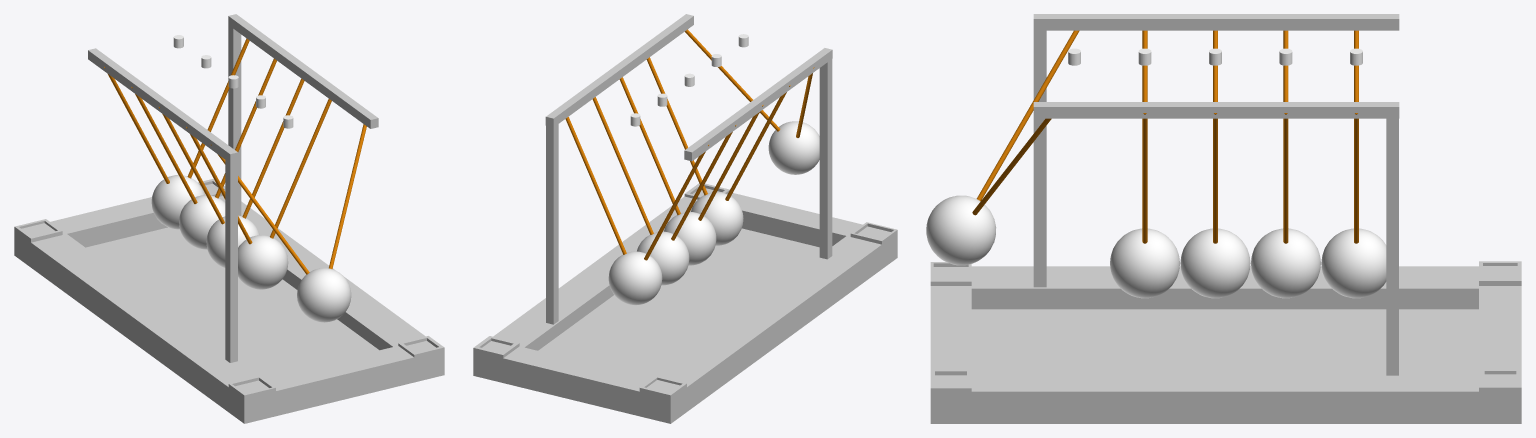
Rendered from newtons_cradle_animated_with_physics.glb.
The picture shows the model from 3 angles, left to right: view 1: azimuth 30°, elevation 25°; view 2: azimuth 150°, elevation 25°; view 3: azimuth 270°, elevation 25°; orthographic projection. The views are drawn at different scales.
Visible parts, largest first — view 1: Plane_24, Cube.003_23, Cube_20, Cube.001_21, Sphere_6, Sphere.001_9, Cube.002_22, Sphere.004_18, Sphere.003_15, Cylinder.001_5, Cylinder.005_11, Cylinder.003_8 (+3 smaller); view 2: Plane_24, Cube.003_23, Cube.002_22, Cube_20, Cube.001_21, Sphere.004_18, Sphere_6, Sphere.003_15, Sphere.002_12, Sphere.001_9, Cylinder.007_14, Cylinder.009_17 (+3 smaller); view 3: Plane_24, Cube.001_21, Cube_20, Sphere.001_9, Sphere.003_15, Sphere_6, Sphere.002_12, Sphere.004_18, Cube.002_22, Cube.003_23, Cylinder.001_5, Cylinder.003_8 (+3 smaller).
Boxes of the visible parts, <box> form: Plane_24: <box>14,178,444,423</box>; Cube.003_23: <box>225,160,237,362</box>; Cube_20: <box>228,14,378,128</box>; Cube.001_21: <box>88,48,237,163</box>; Sphere_6: <box>297,268,351,322</box>; Sphere.001_9: <box>238,235,288,289</box>; Cube.002_22: <box>228,25,241,215</box>; Sphere.004_18: <box>151,175,204,229</box>; Sphere.003_15: <box>179,195,225,249</box>; Cylinder.001_5: <box>211,124,366,274</box>; Cylinder.005_11: <box>159,78,304,224</box>; Cylinder.003_8: <box>186,99,331,244</box>; Plane_24: <box>473,183,897,423</box>; Cube.003_23: <box>819,59,832,259</box>; Cube.002_22: <box>546,124,558,324</box>; Cube_20: <box>545,14,693,127</box>; Cube.001_21: <box>684,48,832,161</box>; Sphere.004_18: <box>608,251,662,305</box>; Sphere_6: <box>768,121,819,174</box>; Sphere.003_15: <box>637,231,689,285</box>; Sphere.002_12: <box>664,212,716,265</box>; Sphere.001_9: <box>691,192,743,245</box>; Cylinder.007_14: <box>592,97,736,240</box>; Cylinder.009_17: <box>565,117,708,260</box>; Plane_24: <box>930,261,1521,423</box>; Cube.001_21: <box>1033,14,1399,30</box>; Cube_20: <box>1033,102,1399,118</box>; Sphere.001_9: <box>1110,228,1179,298</box>; Sphere.003_15: <box>1251,228,1320,298</box>; Sphere_6: <box>926,195,996,265</box>; Sphere.002_12: <box>1180,228,1250,298</box>; Sphere.004_18: <box>1321,228,1386,298</box>; Cube.002_22: <box>1386,118,1398,375</box>; Cube.003_23: <box>1033,30,1046,300</box>; Cylinder.001_5: <box>972,30,1079,215</box>; Cylinder.003_8: <box>1142,30,1147,243</box>.
Size of the model in its own units: 8.43 by 9.71 by 16.9.
